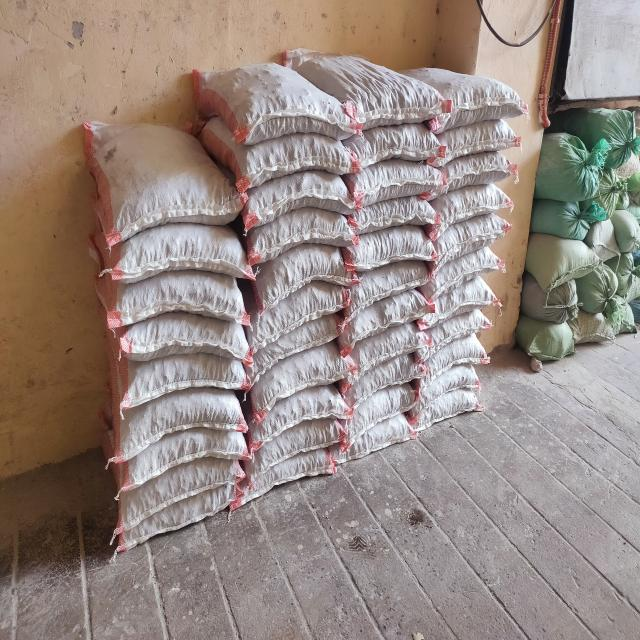Gravel: (88, 136, 236, 208), (116, 346, 251, 399), (115, 388, 250, 441), (212, 72, 352, 123), (105, 227, 239, 280), (126, 310, 260, 363), (108, 269, 243, 321), (126, 423, 246, 461), (126, 456, 246, 494), (243, 133, 354, 174), (243, 209, 353, 250), (257, 247, 367, 288), (243, 289, 353, 330), (245, 175, 355, 215), (335, 72, 421, 119), (435, 74, 521, 121), (240, 349, 347, 386), (123, 495, 233, 530), (258, 389, 358, 427), (249, 422, 349, 460), (249, 452, 335, 485), (259, 322, 348, 352), (431, 127, 521, 153), (360, 199, 439, 225), (357, 167, 436, 193), (354, 129, 433, 155), (428, 228, 506, 254), (427, 254, 505, 279), (427, 313, 494, 342), (434, 160, 511, 185), (434, 191, 511, 216), (423, 288, 500, 313), (353, 420, 419, 448), (358, 230, 423, 258), (349, 363, 415, 390), (355, 330, 421, 357), (351, 301, 417, 328), (359, 265, 425, 292), (347, 393, 412, 420), (422, 341, 489, 366), (422, 366, 489, 390), (420, 394, 487, 418)
